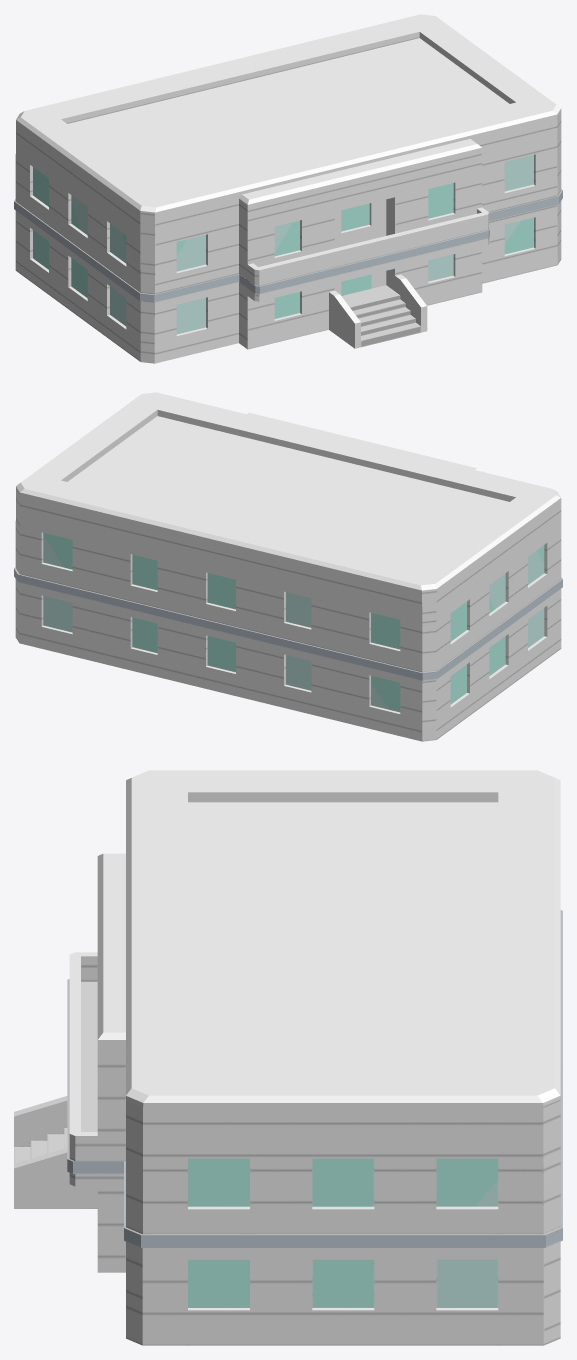
File: Bank_noGround.fbx
The picture shows the model from 3 angles, top to bottom: view 1: azimuth 30°, elevation 25°; view 2: azimuth 150°, elevation 25°; view 3: azimuth 270°, elevation 25°; orthographic projection. The views are drawn at different scales.
Parts seen in each view (by area): view 1: Bank; view 2: Bank; view 3: Bank.
Boxes of the visible parts, x1,y1,x2,y2 form: Bank: (14,14,562,363); Bank: (14,392,562,741); Bank: (14,770,562,1345).
Size of the model in its own units: 141 by 49 by 98.44.
